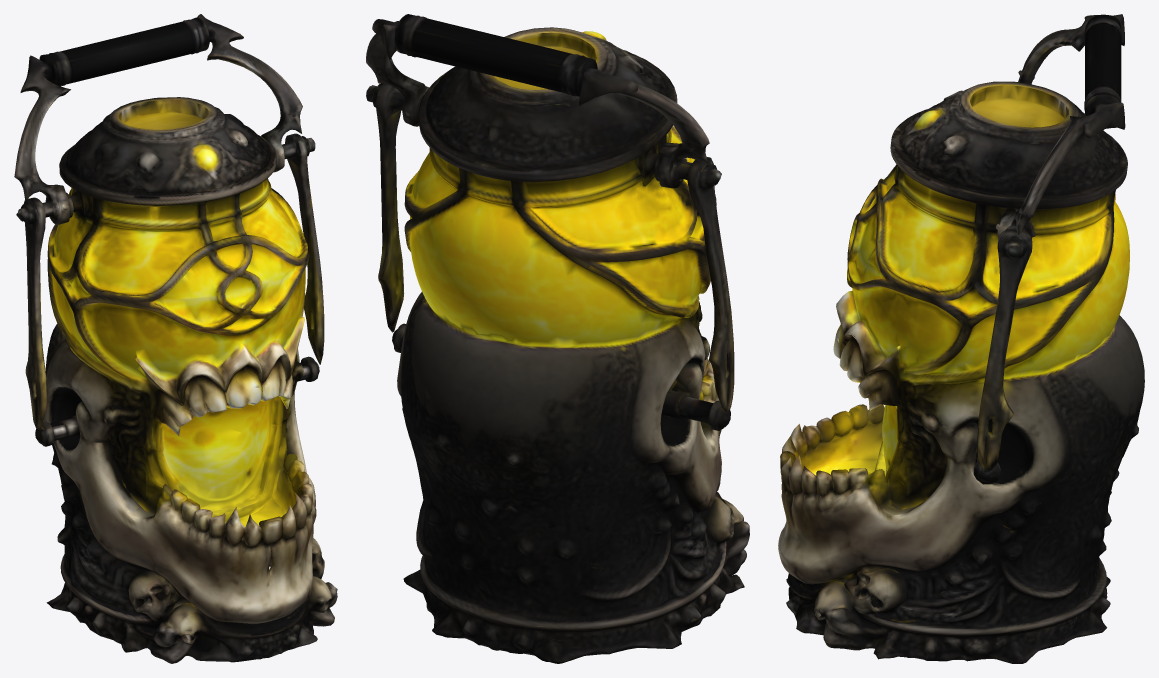
The model's file is oren.glb.
3 renders of one model, left to right at view 1: azimuth 30°, elevation 25°; view 2: azimuth 150°, elevation 25°; view 3: azimuth 270°, elevation 25°, orthographic. The views are drawn at different scales.
Parts seen in each view (by area): view 1: material; view 2: material; view 3: material.
Boxes of the visible parts, left/top/right/bottom form: material: left=14, top=14, right=337, bottom=663; material: left=366, top=14, right=749, bottom=663; material: left=778, top=14, right=1144, bottom=663.
Size of the model in its own units: 0.6181 by 1.03 by 0.6173.
1 material, 1 textured.
